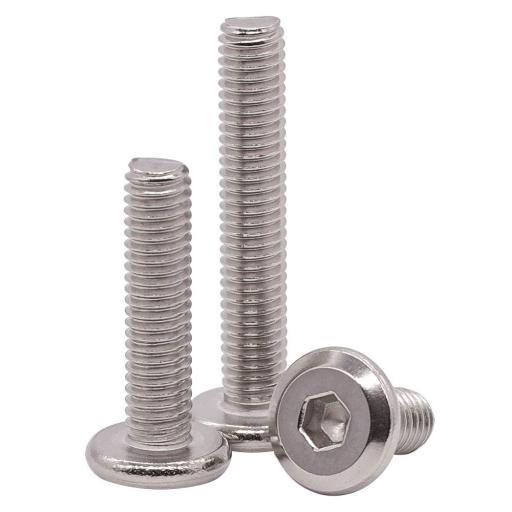Hex-Allen: (270, 347, 396, 498)
